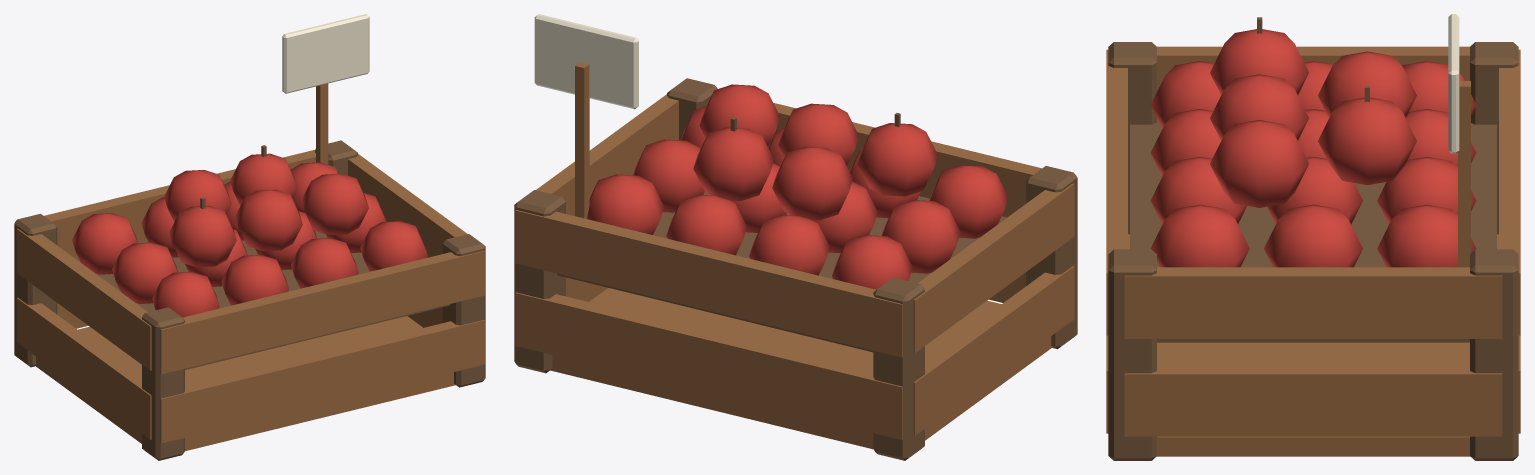
Rendered from crate_apples.glb.
The picture shows the model from 3 angles, left to right: view 1: azimuth 30°, elevation 25°; view 2: azimuth 150°, elevation 25°; view 3: azimuth 270°, elevation 25°; orthographic projection. The views are drawn at different scales.
Visible parts, largest first — view 1: crate_apples; view 2: crate_apples; view 3: crate_apples.
Boxes of the visible parts, x1,y1,x2,y2 form: crate_apples: [14, 14, 485, 460]; crate_apples: [514, 14, 1077, 460]; crate_apples: [1106, 14, 1520, 460].
Size of the model in its own units: 0.507 by 0.4025 by 0.384.
